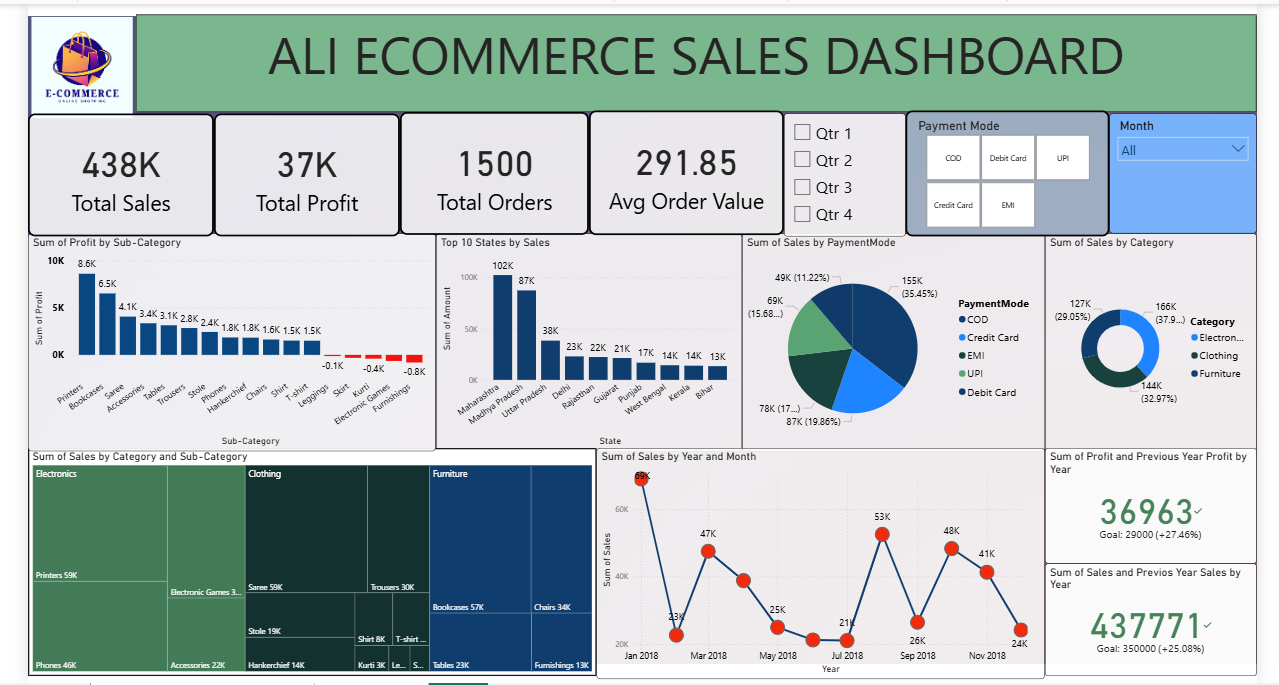

Layout of this report page (visuals, bound fields, positions):
{"tool":"powerbi","page":{"name":"SALES DASHBOARD","canvas":[1900,1050],"ordinal":0},"visuals":[{"type":"columnChart","title":"Top 10 States by Sales","fields":{"Category":["Orders.State"],"Y":["Sum(Details.Amount)"]},"box":[630.9,354.9,473.2,336.3],"z":0},{"type":"pieChart","fields":{"Category":["Details.PaymentMode"],"Y":["Sum(Details.Amount)"]},"box":[1104.1,354.9,468.6,336.3],"z":1000},{"type":"treemap","fields":{"Group":["Details.Category"],"Details":["Details.Sub-Category"],"Values":["Sum(Details.Amount)"]},"box":[0,686.6,879.1,352.6],"z":2000},{"type":"columnChart","fields":{"Category":["Details.Sub-Category"],"Y":["Sum(Details.Profit)"]},"box":[0,354.9,630.9,336.3],"z":3000},{"type":"slicer","title":"Month","fields":{"Values":["Orders.Month Name"]},"box":[1672.5,169.3,227.3,185.6],"z":4000},{"type":"textbox","box":[167,16.2,1732.8,150.8],"z":5000},{"type":"image","box":[0,9.3,167,178.6],"z":6000},{"type":"lineChart","fields":{"Y":["Sum(Details.Amount)"],"Category":["Orders.Order Date.Variation.Date Hierarchy.Year","Orders.Order Date.Variation.Date Hierarchy.Month"]},"box":[879.1,686.6,693.6,357.2],"z":7000},{"type":"donutChart","fields":{"Category":["Details.Category"],"Y":["Sum(Details.Amount)"]},"box":[1572.7,354.9,327.1,336.3],"z":8000},{"type":"card","fields":{"Values":["Sum(Details.Amount)"]},"box":[0,169.3,287.6,190.2],"z":9000},{"type":"card","fields":{"Values":["Sum(Details.Profit)"]},"box":[287.6,169.3,287.6,190.2],"z":10000},{"type":"card","fields":{"Values":["CountNonNull(Details.Order ID)"]},"box":[575.3,167,292.3,190.2],"z":11000},{"type":"slicer","fields":{"Values":["Details.PaymentMode"]},"box":[1357,164.7,315.5,194.8],"z":12000},{"type":"slicer","fields":{"Values":["Orders.Order Date.Variation.Date Hierarchy.Quarter"]},"box":[1169.1,169.3,187.9,185.6],"z":13000},{"type":"kpi","fields":{"Goal":["Orders.Previos Year Sales"],"Indicator":["Sum(Details.Amount)"],"TrendLine":["Orders.Order Date.Variation.Date Hierarchy.Year"]},"box":[1572.7,865.2,327.1,174],"z":14000},{"type":"kpi","fields":{"Indicator":["Sum(Details.Profit)"],"Goal":["Orders.Previous Year Profit"],"TrendLine":["Orders.Order Date.Variation.Date Hierarchy.Year"]},"box":[1572.7,686.6,327.1,178.6],"z":15000},{"type":"card","fields":{"Values":["Orders.Average Order Value"]},"box":[867.5,164.7,301.6,192.5],"z":16000}]}

Visuals, with their boxes in screenshot pixels (x1, y1, x2, y2):
"Top 10 States by Sales" columnChart: Rect(433, 232, 738, 449)
pieChart - Details.PaymentMode x Sum(Details.Amount): Rect(738, 232, 1040, 449)
treemap - Details.Category x Details.Sub-Category: Rect(27, 446, 593, 673)
columnChart - Details.Sub-Category x Sum(Details.Profit): Rect(27, 232, 433, 449)
"Month" slicer: Rect(1104, 112, 1251, 232)
textbox: Rect(134, 14, 1251, 111)
image: Rect(27, 9, 134, 124)
lineChart - Sum(Details.Amount) x Orders.Order Date.Variation.Date Hierarchy.Year: Rect(593, 446, 1040, 676)
donutChart - Details.Category x Sum(Details.Amount): Rect(1040, 232, 1251, 449)
card - Sum(Details.Amount): Rect(27, 112, 212, 235)
card - Sum(Details.Profit): Rect(212, 112, 397, 235)
card - CountNonNull(Details.Order ID): Rect(397, 111, 586, 234)
slicer - Details.PaymentMode: Rect(901, 109, 1104, 235)
slicer - Orders.Order Date.Variation.Date Hierarchy.Quarter: Rect(780, 112, 901, 232)
kpi - Orders.Previos Year Sales x Sum(Details.Amount): Rect(1040, 561, 1251, 673)
kpi - Sum(Details.Profit) x Orders.Previous Year Profit: Rect(1040, 446, 1251, 561)
card - Orders.Average Order Value: Rect(586, 109, 780, 234)
